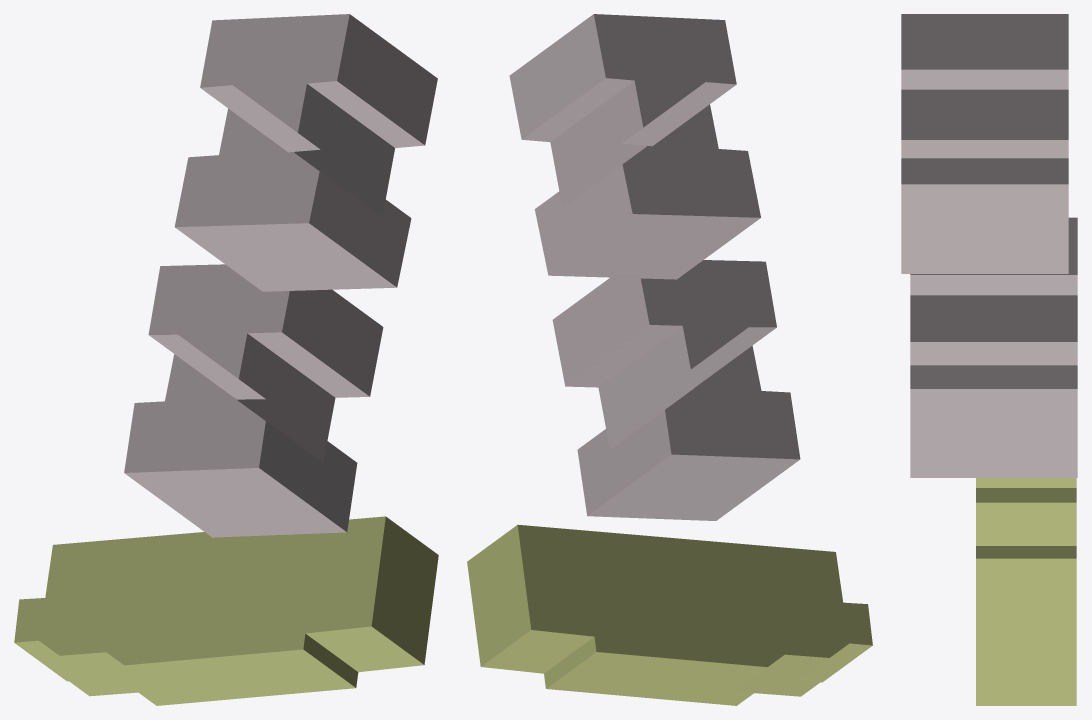
3 renders of one model, left to right at view 1: azimuth 30°, elevation 25°; view 2: azimuth 150°, elevation 25°; view 3: azimuth 270°, elevation 25°, orthographic. The views are drawn at different scales.
Parts seen in each view (by area): view 1: 0_0_1_2_3_3_0_3; view 2: 0_0_1_2_3_3_0_3; view 3: 0_0_1_2_3_3_0_3.
Boxes of the visible parts, bbox=[...] form: 0_0_1_2_3_3_0_3: bbox=[14, 14, 438, 705]; 0_0_1_2_3_3_0_3: bbox=[467, 14, 872, 705]; 0_0_1_2_3_3_0_3: bbox=[901, 14, 1077, 705].
Bounding box in the file's own units: 36.5 × 61.5 × 15.8.
